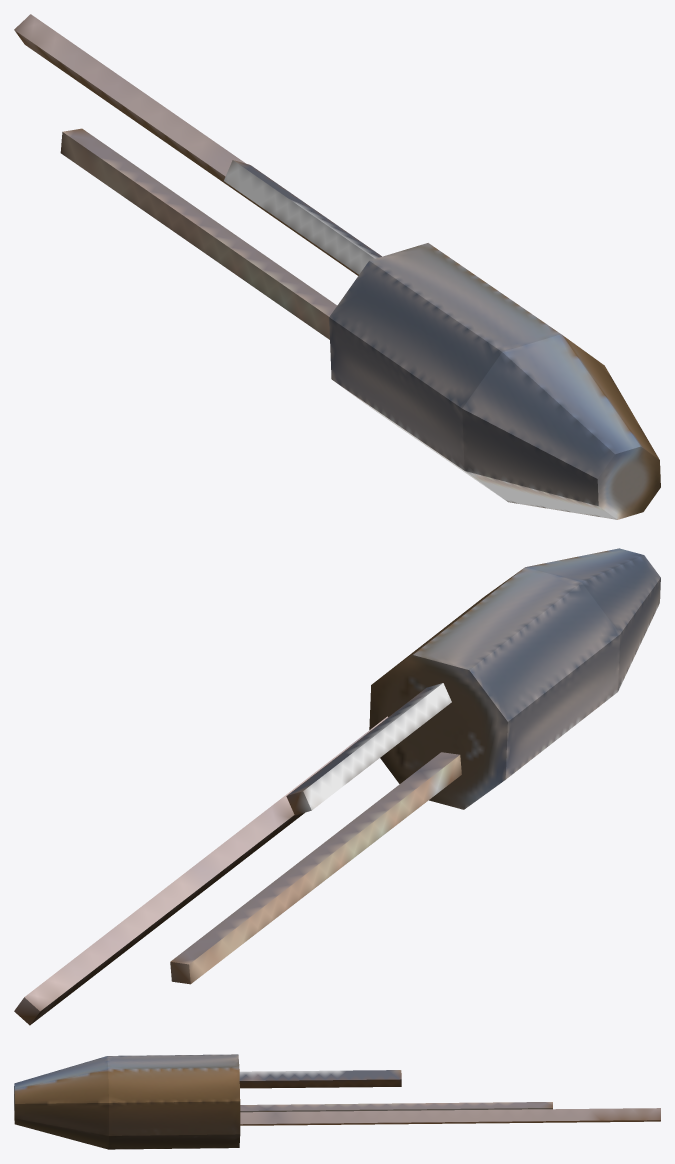
3 renders of one model, top to bottom at view 1: azimuth 30°, elevation 25°; view 2: azimuth 150°, elevation 25°; view 3: azimuth 270°, elevation 25°, orthographic. The views are drawn at different scales.
Visible parts, largest first — view 1: Bala_Cylinder.003, Estela_3_Cube.008, Estela_1_Cube.006, Estela_2_Cube.007; view 2: Bala_Cylinder.003, Estela_3_Cube.008, Estela_1_Cube.006, Estela_2_Cube.007; view 3: Bala_Cylinder.003, Estela_1_Cube.006, Estela_2_Cube.007, Estela_3_Cube.008.
Boxes of the visible parts, box(x1,y1,x2,y2) form: Bala_Cylinder.003: box(329, 243, 660, 519); Estela_3_Cube.008: box(60, 128, 337, 339); Estela_1_Cube.006: box(14, 14, 358, 275); Estela_2_Cube.007: box(224, 160, 381, 274); Bala_Cylinder.003: box(369, 548, 660, 809); Estela_3_Cube.008: box(170, 752, 461, 984); Estela_1_Cube.006: box(14, 716, 387, 1025); Estela_2_Cube.007: box(286, 683, 451, 815); Bala_Cylinder.003: box(14, 1054, 240, 1149); Estela_1_Cube.006: box(240, 1108, 660, 1125); Estela_2_Cube.007: box(239, 1070, 401, 1088); Estela_3_Cube.008: box(240, 1102, 552, 1112).
Size of what is drawn, in the model's own units: 0.2741 by 0.2633 by 1.94.
